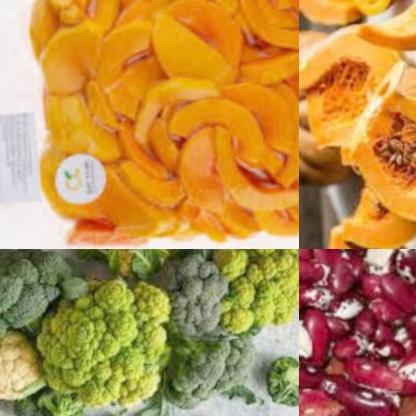broccoli: (148, 249, 241, 416), (0, 249, 65, 340), (251, 346, 299, 416), (4, 394, 121, 416)
cayliflower: (35, 279, 175, 416), (226, 249, 299, 336), (0, 331, 51, 407)
fasol: (299, 249, 416, 416)
pumpkin: (13, 0, 299, 249), (299, 30, 410, 166), (338, 60, 416, 227), (299, 27, 355, 192), (335, 190, 416, 249), (351, 0, 416, 57), (310, 216, 410, 249), (299, 0, 368, 34), (341, 0, 407, 22)
